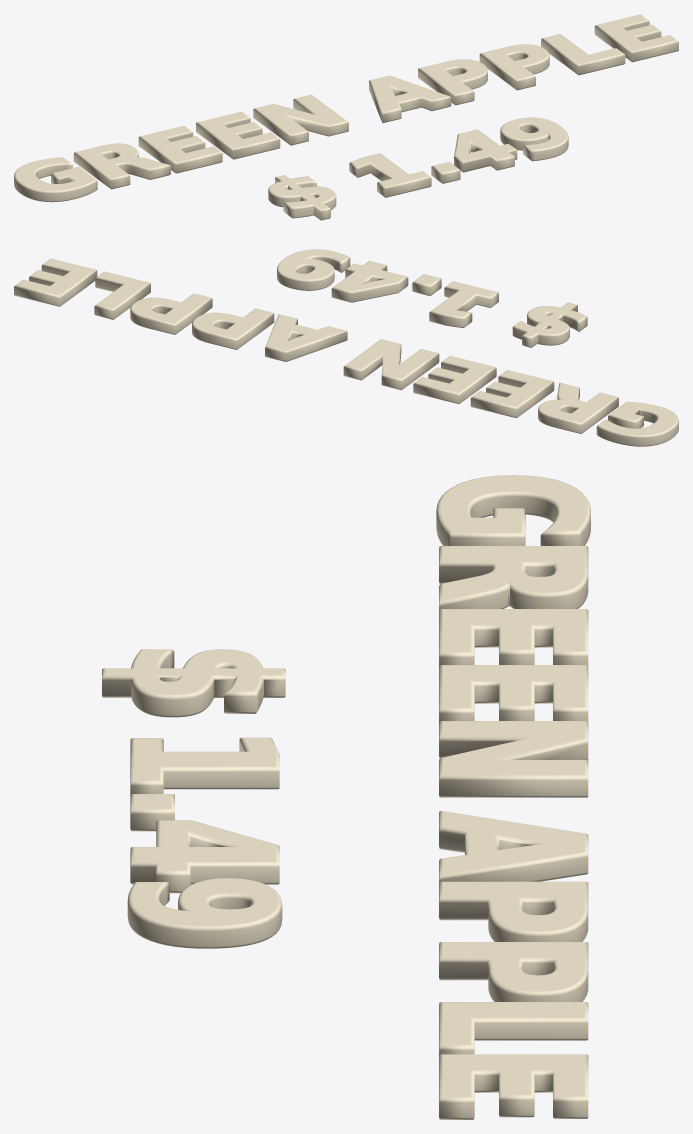
File: SM_EG_Produce_price_7da6600113.fbx
3 views of the same model, one above another, from view 1: azimuth 30°, elevation 25°; view 2: azimuth 150°, elevation 25°; view 3: azimuth 270°, elevation 25° (orthographic). The views are drawn at different scales.
Parts seen in each view (by area): view 1: SM_EG_Produce_price_7da6600113; view 2: SM_EG_Produce_price_7da6600113; view 3: SM_EG_Produce_price_7da6600113.
Part boxes in pixels (x1,y1,x2,y2): SM_EG_Produce_price_7da6600113: [14, 14, 678, 220]; SM_EG_Produce_price_7da6600113: [14, 249, 678, 446]; SM_EG_Produce_price_7da6600113: [102, 475, 590, 1119].
Size of the model in its own units: 26.35 by 8.72 by 0.44.
